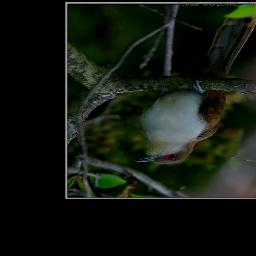Cuckoo: (133, 6, 256, 165)
